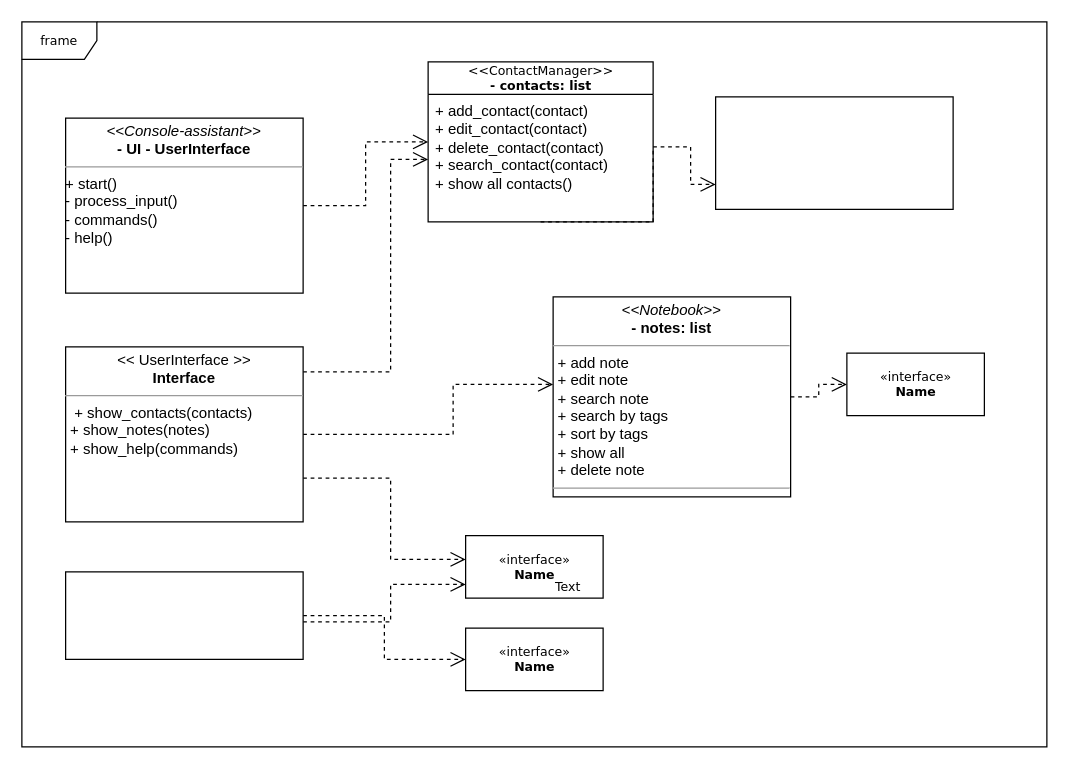
The diagram is 1069 pixels wide and 769 high, and some of its shapes have lost their labels. The shapes that lost their labels are listed below. From the top down, each one's centre as x and y in pixels, then its label:
(833,152): <<Sort>> - sort folder + sort folder + exit
(183,615): <<Weather>> + get weather + exit
